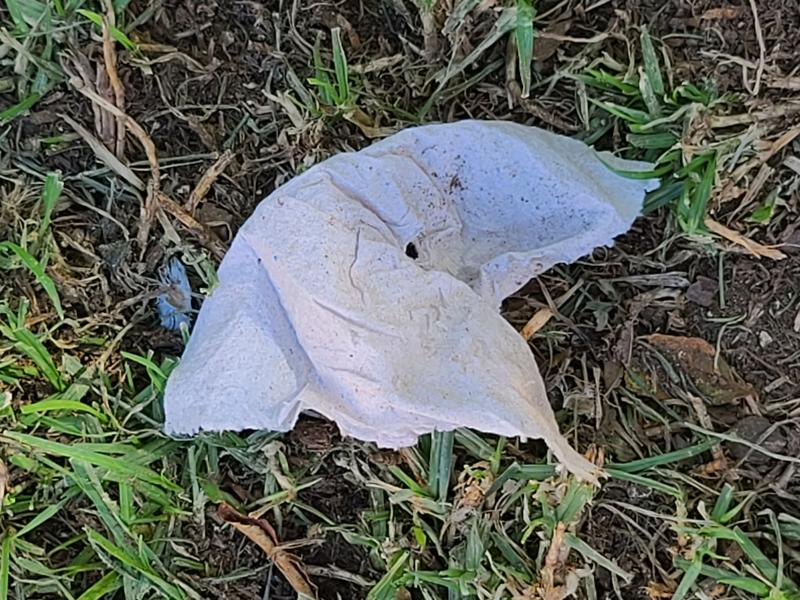papel: (161, 118, 660, 486)
